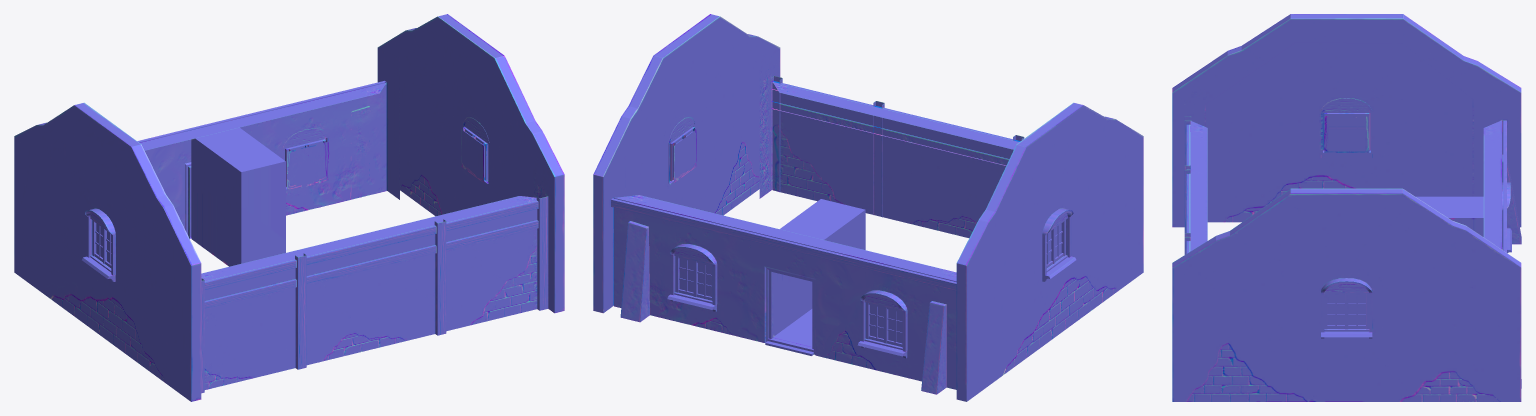
The model's file is House_FileneA_Base_Combat.fbx.
The picture shows the model from 3 angles, left to right: view 1: azimuth 30°, elevation 25°; view 2: azimuth 150°, elevation 25°; view 3: azimuth 270°, elevation 25°; orthographic projection.
Visible parts, largest first — view 1: House_FileneA_Base_Combat; view 2: House_FileneA_Base_Combat; view 3: House_FileneA_Base_Combat.
Boxes of the visible parts, x1=… form: House_FileneA_Base_Combat: x1=14, y1=14, x2=564, y2=401; House_FileneA_Base_Combat: x1=593, y1=14, x2=1143, y2=401; House_FileneA_Base_Combat: x1=1172, y1=14, x2=1521, y2=401.
Size of the model in its own units: 1144 by 593 by 900.
1 material, 1 textured.
